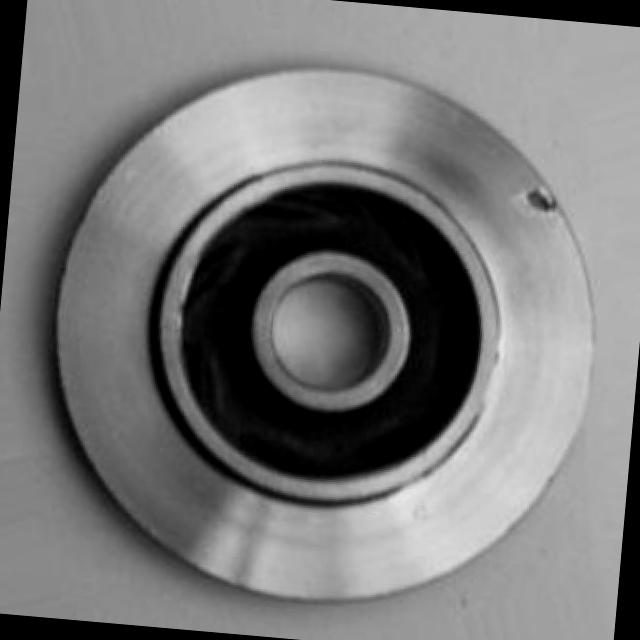Defect: (515, 182, 572, 230)
